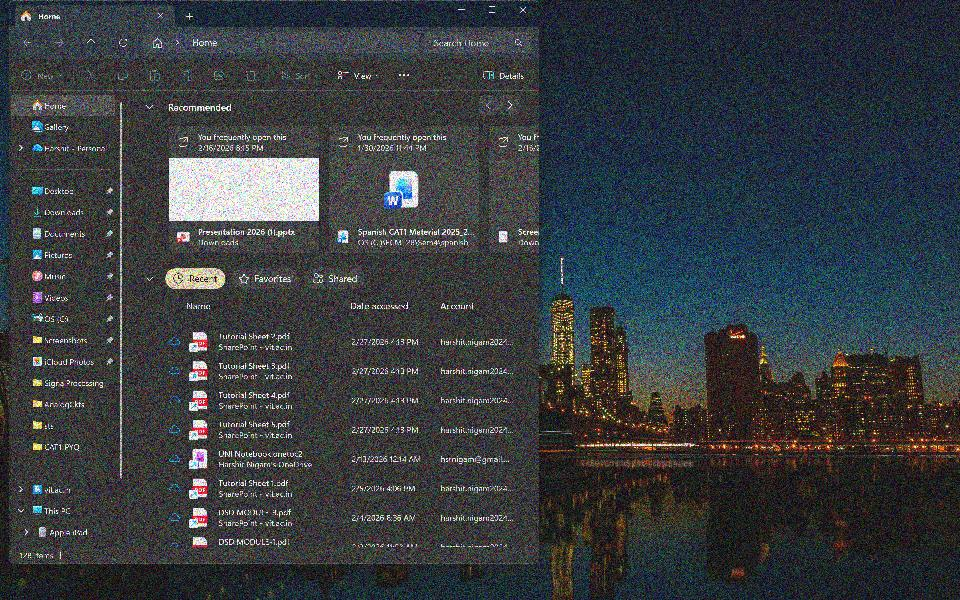close_button: (516, 2, 534, 22)
maximize_button: (483, 1, 504, 23)
minimize_button: (452, 1, 474, 25)
